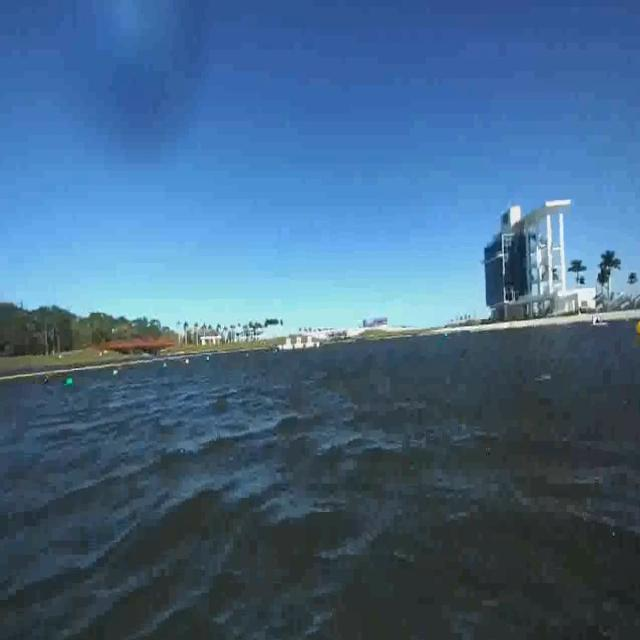green-buoy: (64, 374, 76, 389)
